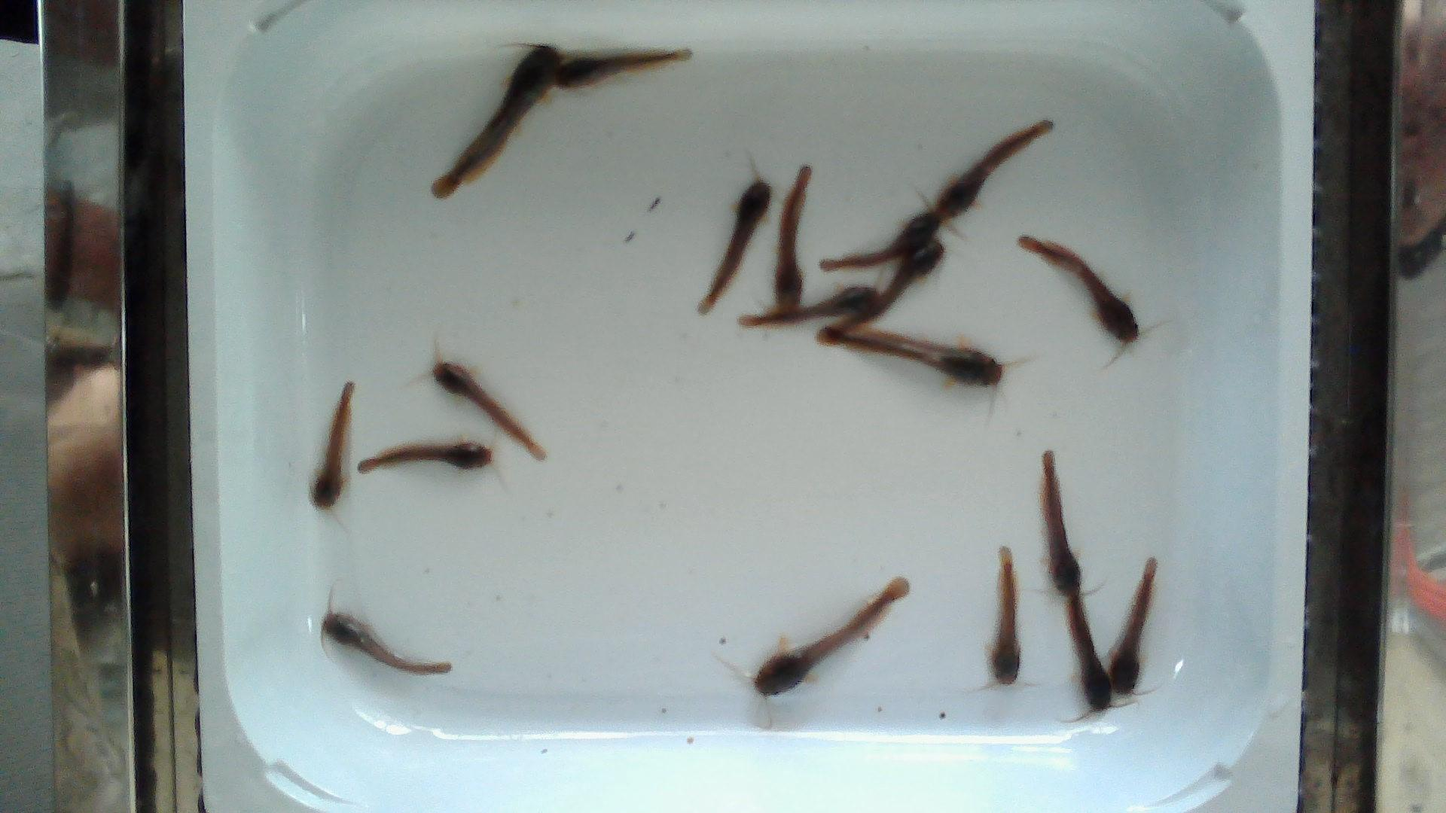lele: (752, 577, 907, 722), (432, 45, 564, 201), (1019, 236, 1138, 346), (931, 122, 1051, 221), (816, 324, 1003, 385), (433, 361, 545, 459), (836, 237, 947, 329), (698, 176, 770, 314), (323, 611, 451, 674), (817, 209, 941, 271), (764, 166, 811, 316), (1035, 451, 1082, 599), (1107, 559, 1156, 695), (738, 283, 878, 326), (1063, 598, 1112, 719), (311, 382, 354, 509), (554, 50, 690, 88), (358, 442, 492, 473), (990, 547, 1020, 684)
